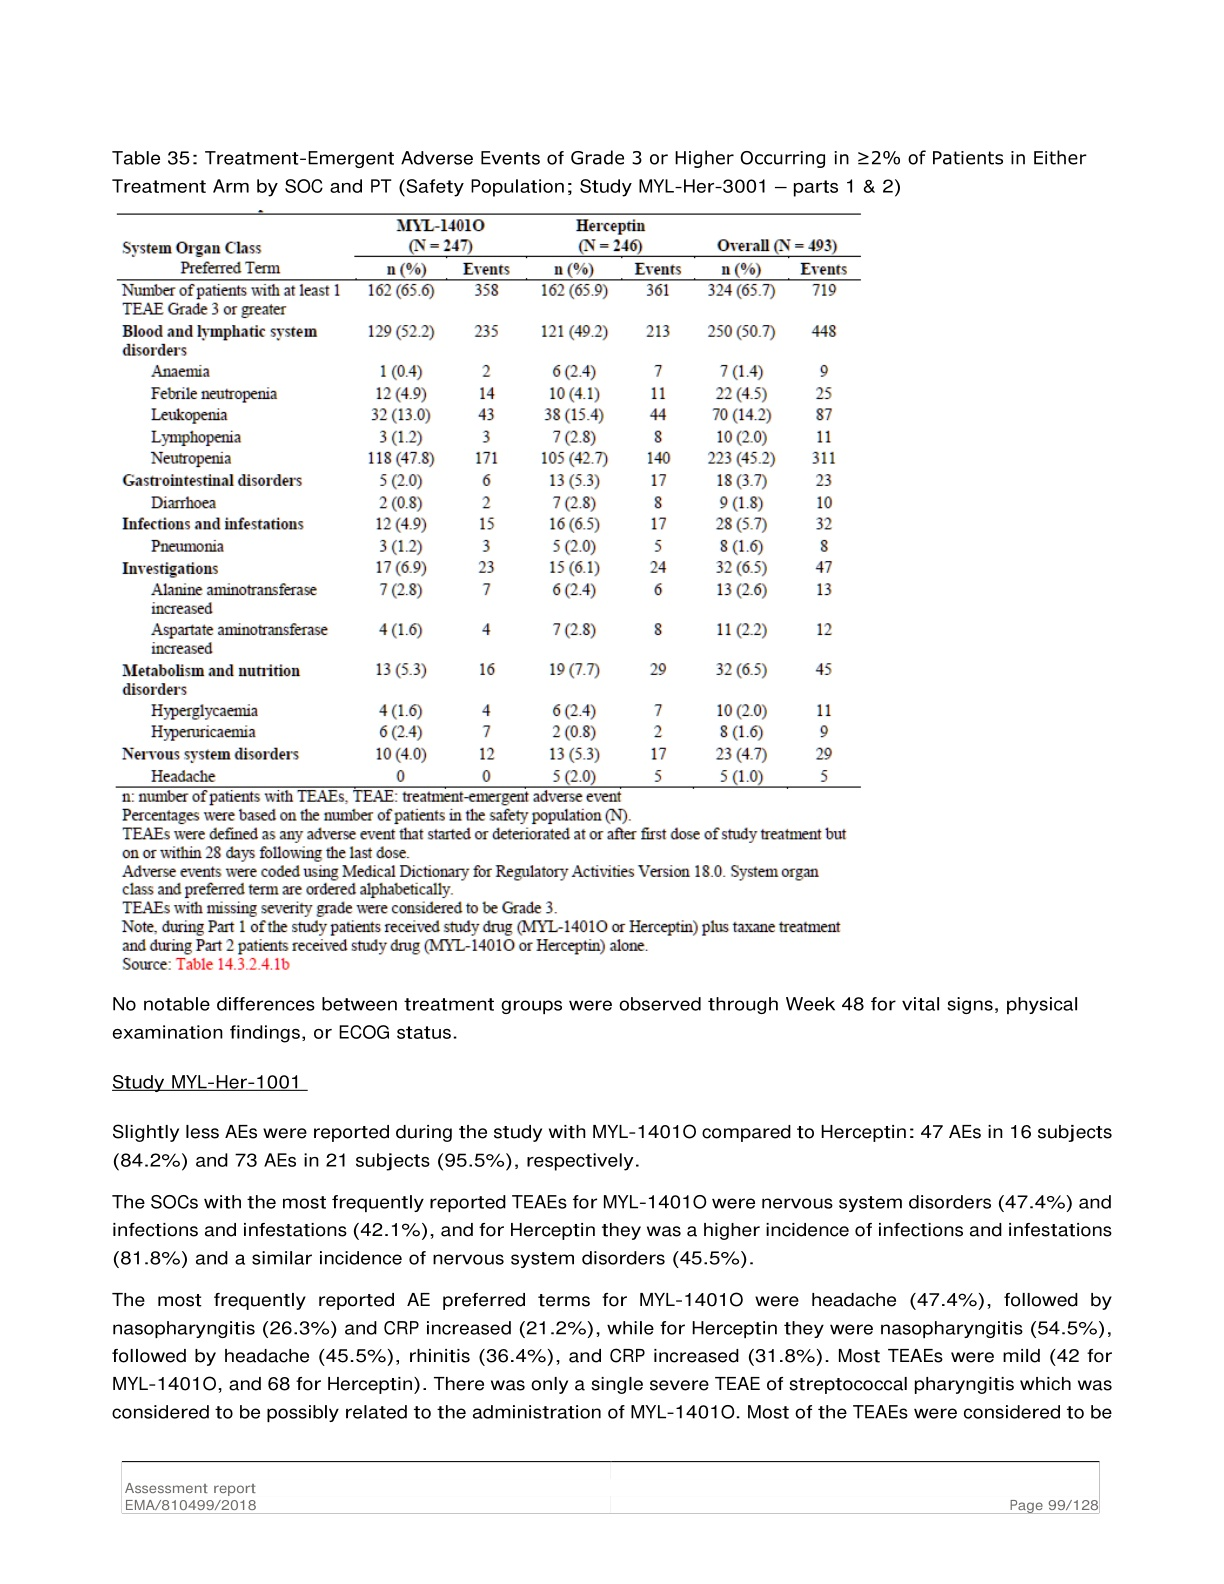partial_lined_merged_cells: (114, 210, 867, 791)
